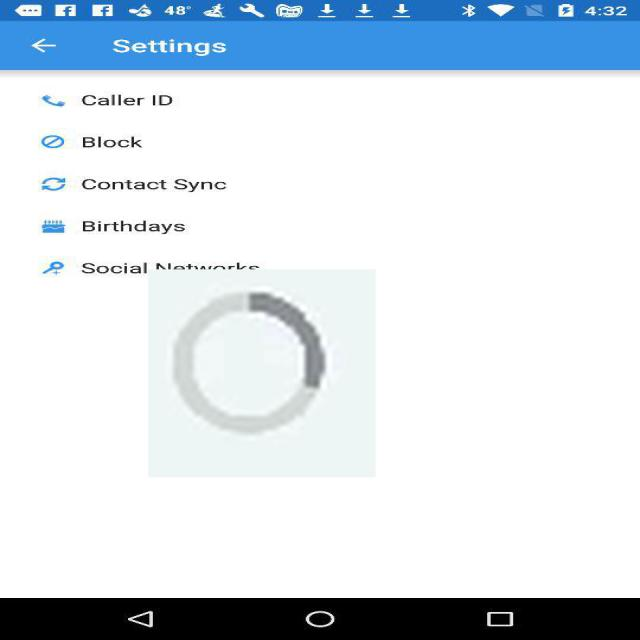misdirection: (148, 270, 376, 478)
